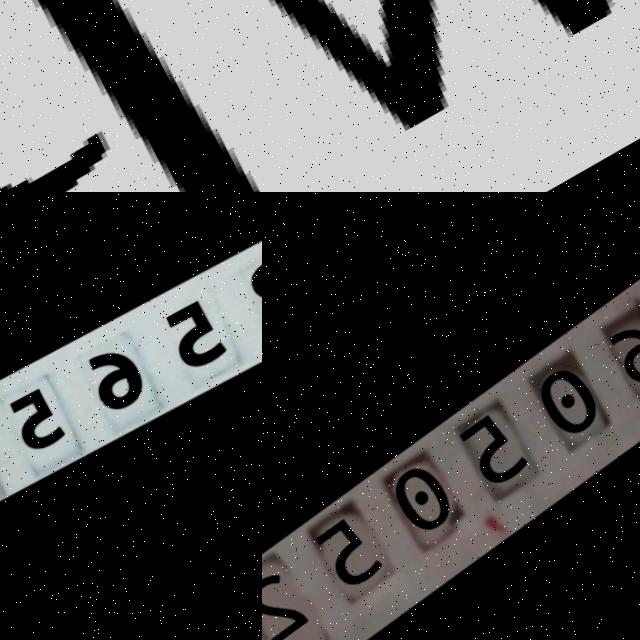0: (519, 344, 630, 461), (377, 441, 485, 555)
2: (262, 543, 341, 640), (230, 236, 262, 350)
5: (447, 393, 555, 507), (305, 494, 413, 608), (153, 282, 251, 389), (0, 370, 89, 469)
6: (73, 324, 173, 434), (594, 298, 640, 405)
P: (0, 0, 262, 192)
W: (262, 0, 640, 192)
